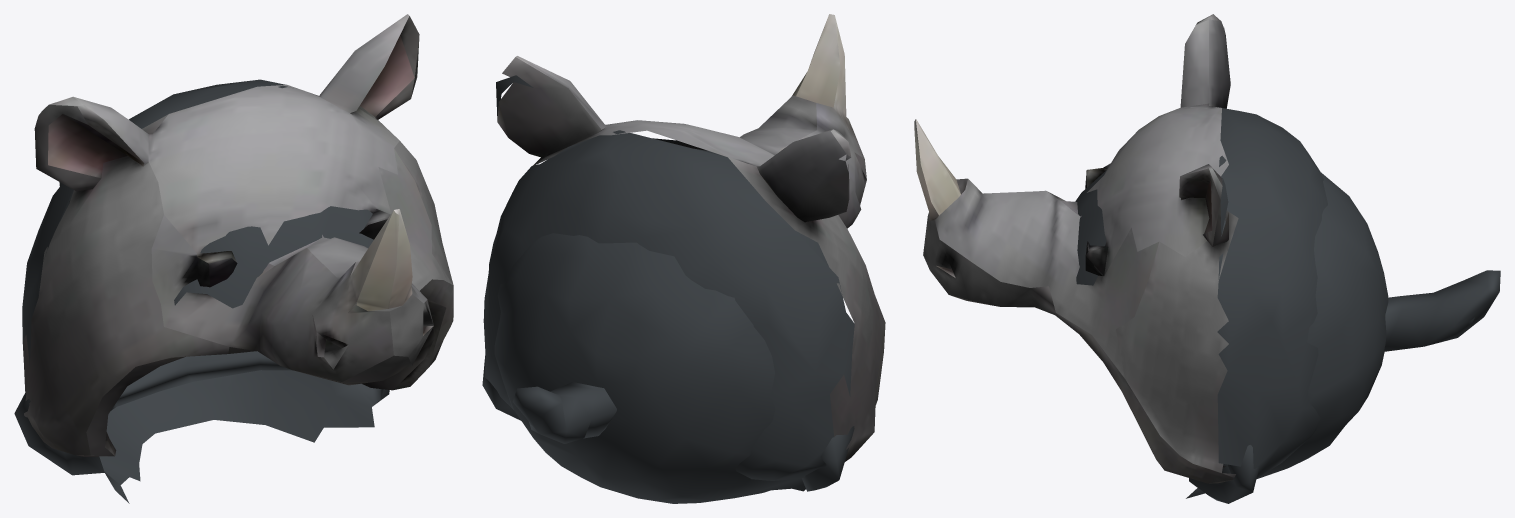
File: rhino.glb
3 renders of one model, left to right at view 1: azimuth 30°, elevation 25°; view 2: azimuth 150°, elevation 25°; view 3: azimuth 270°, elevation 25°, orthographic. The views are drawn at different scales.
Visible parts, largest first — view 1: geometry_0, HoodAnatomicalLining; view 2: geometry_0, HoodAnatomicalLining; view 3: geometry_0, HoodAnatomicalLining.
Boxes of the visible parts, x1,y1,x2,y2 form: geometry_0: [22, 14, 453, 456]; HoodAnatomicalLining: [14, 190, 389, 503]; geometry_0: [483, 14, 885, 480]; HoodAnatomicalLining: [482, 148, 854, 503]; geometry_0: [914, 14, 1500, 483]; HoodAnatomicalLining: [1075, 170, 1388, 503].
Size of the model in its own units: 0.5271 by 0.511 by 0.7402.
Materials: 2 (1 with a texture image).
